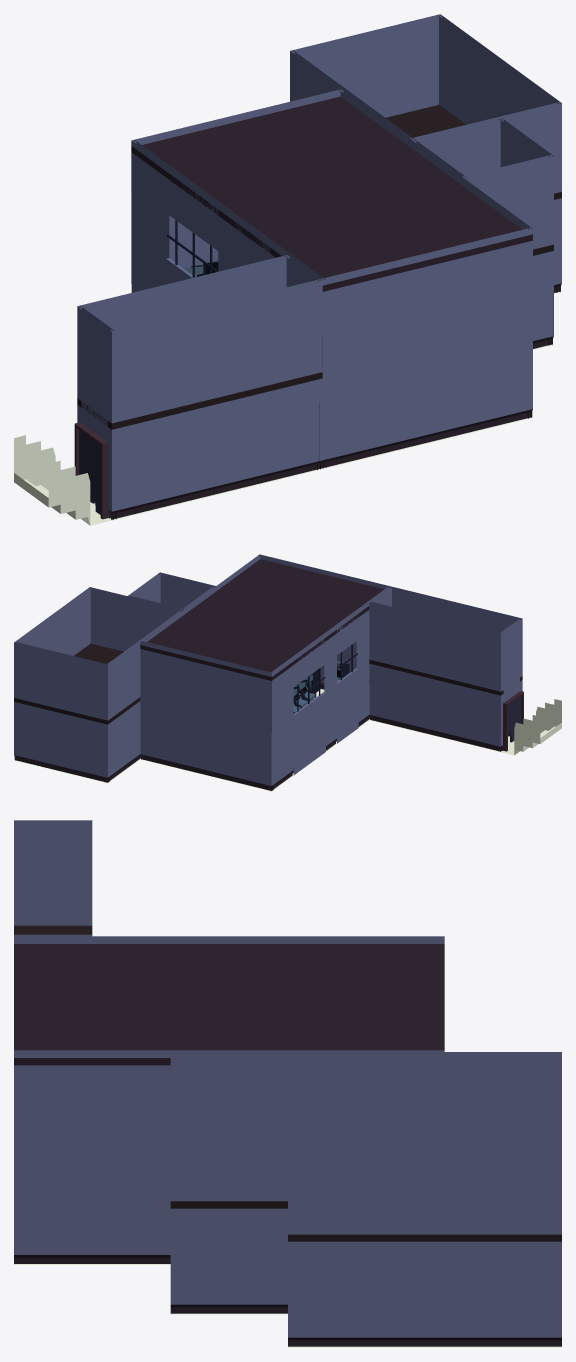
File: level.glb
3 renders of one model, top to bottom at view 1: azimuth 30°, elevation 25°; view 2: azimuth 150°, elevation 25°; view 3: azimuth 270°, elevation 25°, orthographic. The views are drawn at different scales.
Visible parts, largest first — view 1: wall segment-col (×39), ceiling, wall segment door (×3), Floor, wall segment window (×4), doorframe-col, front door-col; view 2: wall segment-col (×42), ceiling, wall segment window (×5), wall segment door (×2), Floor, front door-col, doorframe-col; view 3: wall segment-col (×22), ceiling, wall segment door (×2), Floor.
Part boxes in pixels (x1,y1,x2,y2): wall segment-col (×39): (107,14,561,519); ceiling: (77,96,561,429); wall segment door (×3): (77,119,503,519); Floor: (14,291,561,525); wall segment window (×4): (166,165,255,284); doorframe-col: (74,422,109,519); front door-col: (79,430,100,514); wall segment-col (×42): (14,572,503,790); ceiling: (14,559,522,724); wall segment window (×5): (291,610,358,775); wall segment door (×2): (126,597,522,751); Floor: (14,689,561,791); front door-col: (508,696,521,742); doorframe-col: (502,691,523,751); wall segment-col (×22): (14,1050,561,1346); ceiling: (14,925,561,1241); wall segment door (×2): (14,820,405,1132); Floor: (14,1264,561,1347).
Size of the model in its own units: 21.1 by 6.11 by 14.
3 materials, 2 textured.
